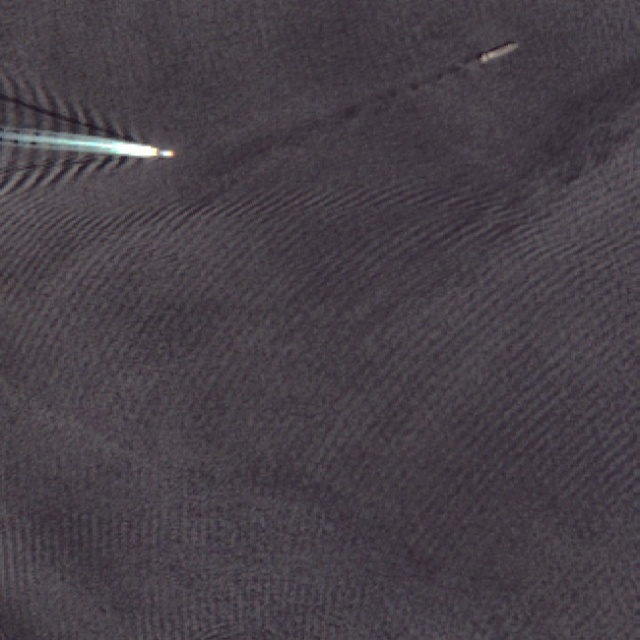wake: (9, 94, 182, 194)
